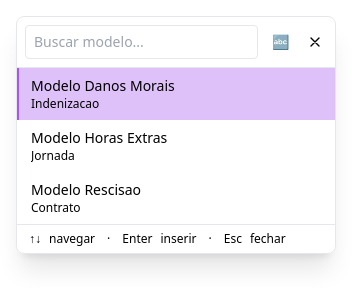
Test case: SlashCommandMenu › Semantic Search › should toggle to semantic search placeholder when semantic button is clicked
Click the button titled "Busca textual (por palavras)".
click(280, 42)  # box [266,26,295,58]
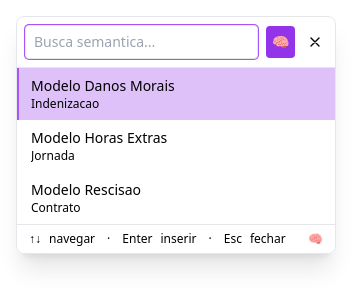
Expected: the field with placeholder "Busca semantica..." is shown, [25,25,258,59]
